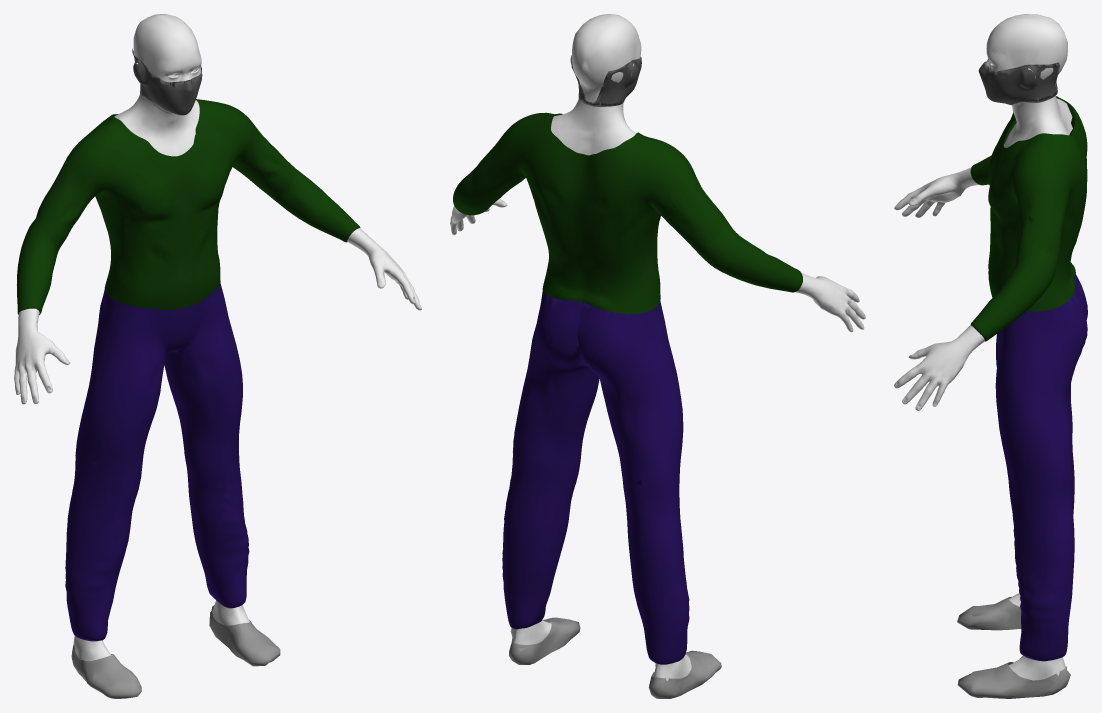
The model's file is GameCharacter.fbx.
The picture shows the model from 3 angles, left to right: view 1: azimuth 30°, elevation 25°; view 2: azimuth 150°, elevation 25°; view 3: azimuth 270°, elevation 25°; orthographic projection.
Parts seen in each view (by area): view 1: humanMesh.001; view 2: humanMesh.001; view 3: humanMesh.001.
Part boxes in pixels (x1,y1,x2,y2): humanMesh.001: (14,14,421,698); humanMesh.001: (450,14,865,698); humanMesh.001: (894,14,1087,698).
Bounding box in the file's own units: 118 × 181 × 49.76.
